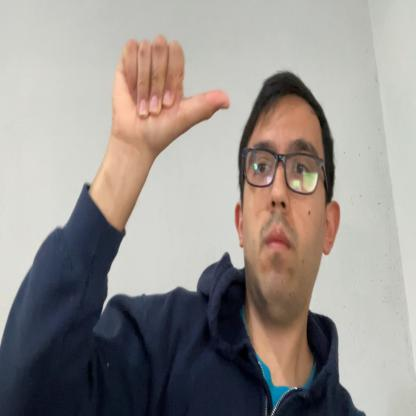A: (112, 35, 230, 153)
